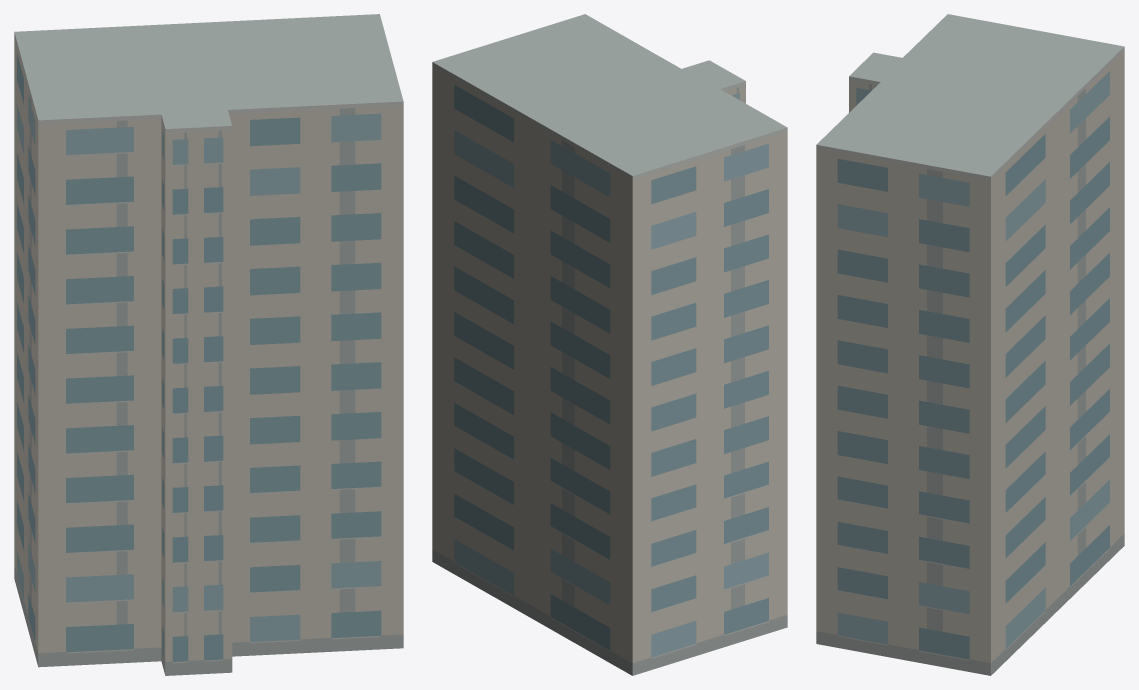
The model's file is residential-24cef8c3-228c-463a-91d8-e67c227ab27a.glb.
3 views of the same model, side by side, from view 1: azimuth 30°, elevation 25°; view 2: azimuth 150°, elevation 25°; view 3: azimuth 270°, elevation 25° (orthographic). The views are drawn at different scales.
Parts seen in each view (by area): view 1: residential-24cef8c3-228c-463a-91d8-e67c227ab27a.tmp; view 2: residential-24cef8c3-228c-463a-91d8-e67c227ab27a.tmp; view 3: residential-24cef8c3-228c-463a-91d8-e67c227ab27a.tmp.
Part boxes in pixels (x1,y1,x2,y2): residential-24cef8c3-228c-463a-91d8-e67c227ab27a.tmp: (14, 14, 403, 675); residential-24cef8c3-228c-463a-91d8-e67c227ab27a.tmp: (432, 14, 787, 675); residential-24cef8c3-228c-463a-91d8-e67c227ab27a.tmp: (816, 14, 1124, 675).
Size of the model in its own units: 21.67 by 31 by 17.35.
